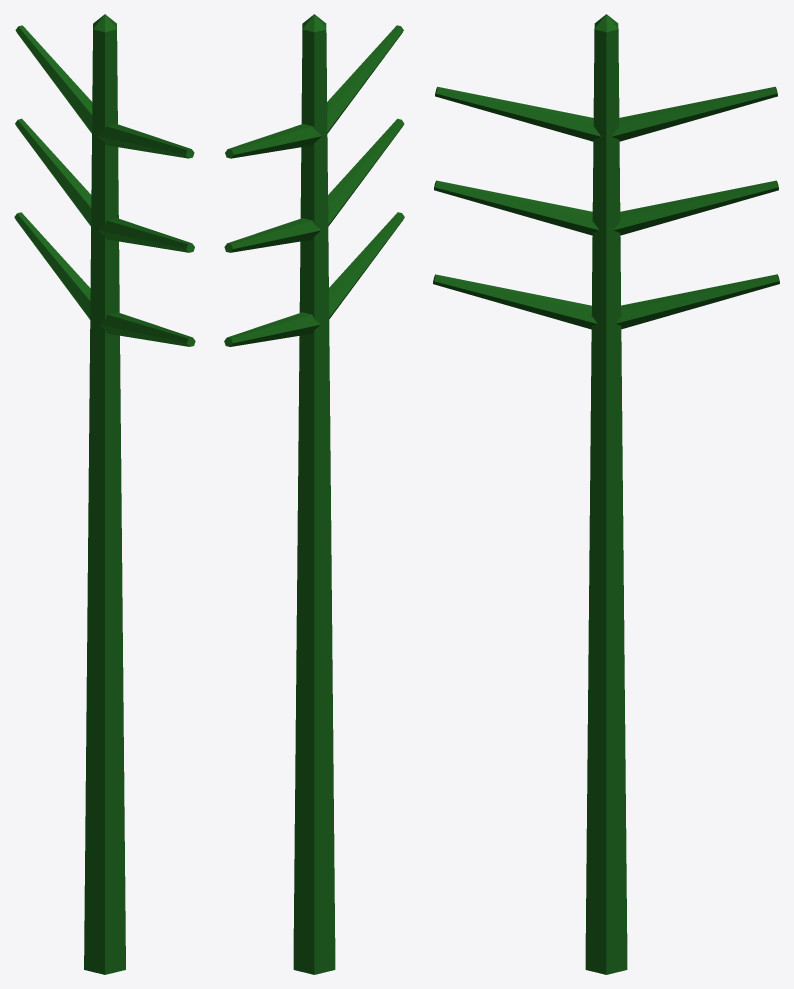
The model's file is tower.obj.
The picture shows the model from 3 angles, left to right: view 1: azimuth 30°, elevation 25°; view 2: azimuth 150°, elevation 25°; view 3: azimuth 270°, elevation 25°; orthographic projection.
Bounding box in the file's own units: 0.7 × 15.2 × 5.03.
